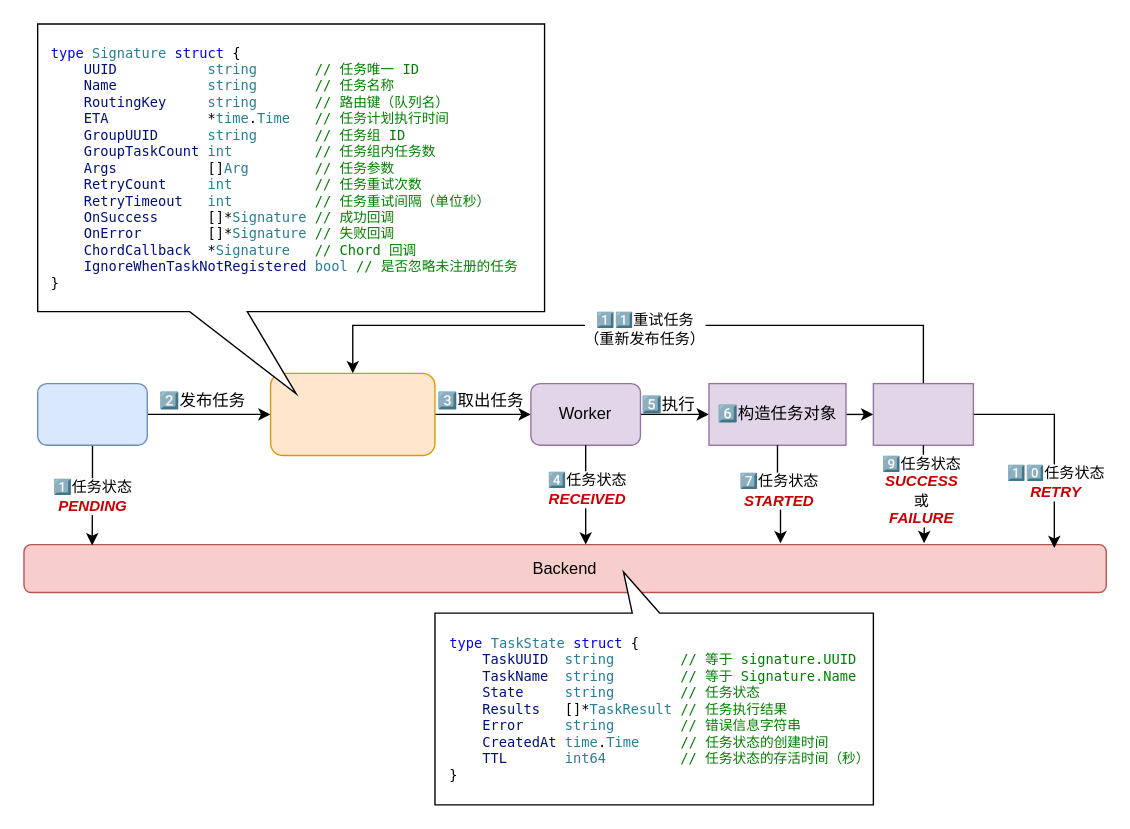
This 1130x829 diagram has some shape labels left out. Each missing label, with the centre of its shape:
"8️⃣反射调用" belongs at point 922,413.
"Broker" belongs at point 352,414.
"Server" belongs at point 91,413.
